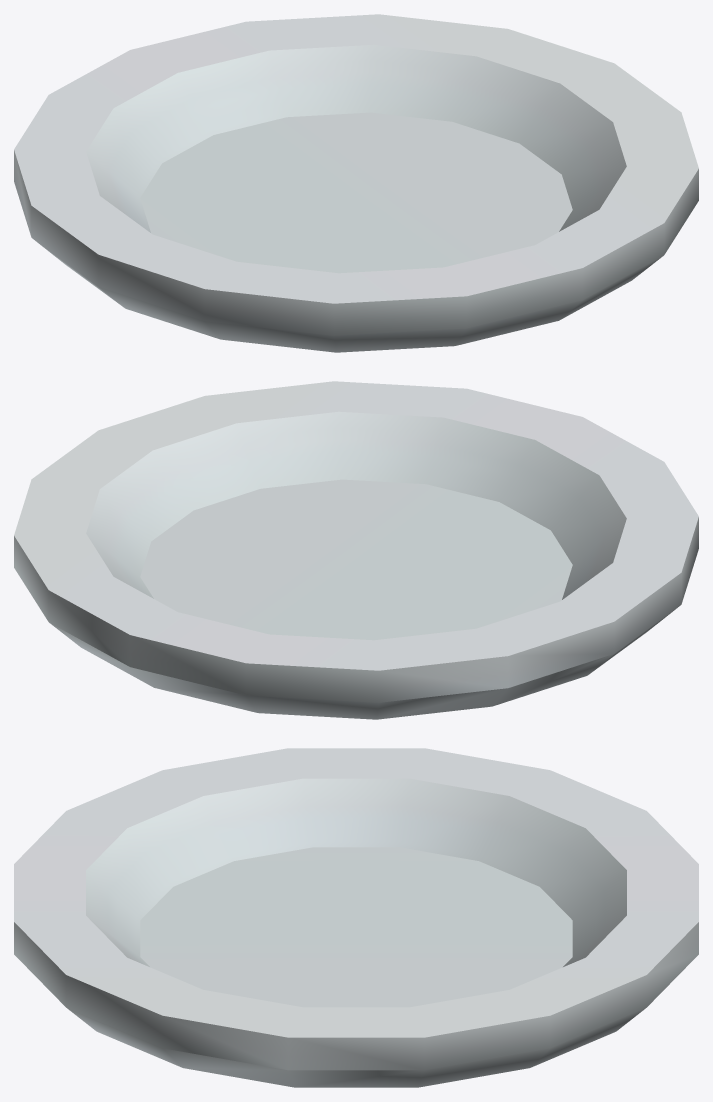
File: kay-prato.gltf
3 renders of one model, top to bottom at view 1: azimuth 30°, elevation 25°; view 2: azimuth 150°, elevation 25°; view 3: azimuth 270°, elevation 25°, orthographic.
Visible parts, largest first — view 1: plate; view 2: plate; view 3: plate.
Part boxes in pixels (x1,y1,x2,y2): plate: (14, 14, 698, 352); plate: (14, 381, 698, 719); plate: (14, 748, 698, 1087).
Bounding box in the file's own units: 0.6175 × 0.065 × 0.6175.
Materials: 1 (1 with a texture image).
